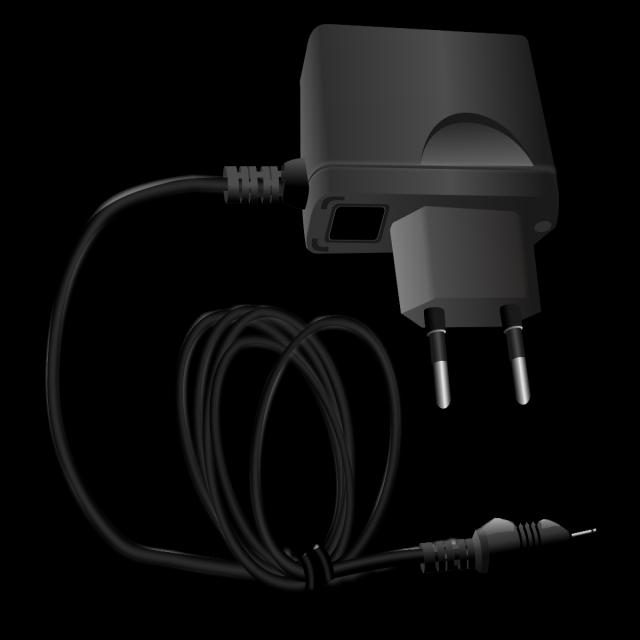battery charger: (161, 55, 586, 595)
